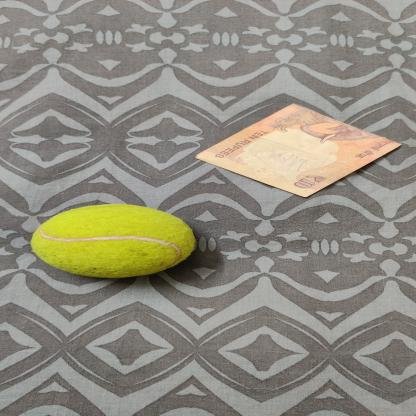Old10Back: (192, 103, 402, 199)
